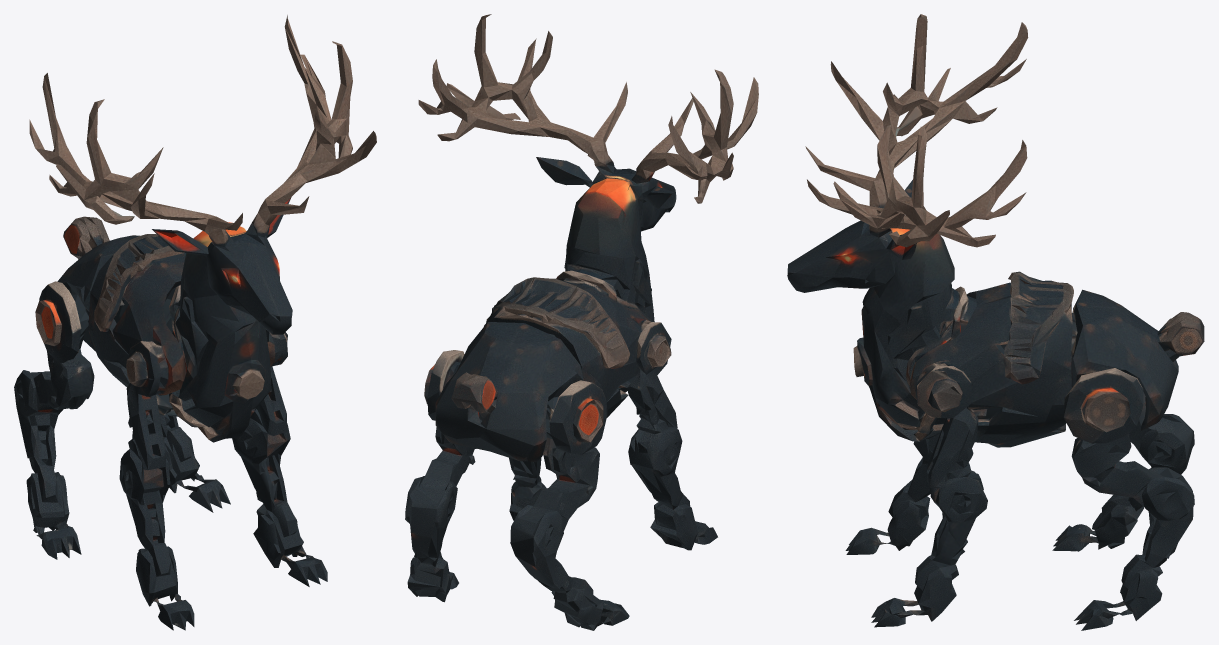
File: ironhorn.glb
3 views of the same model, side by side, from view 1: azimuth 30°, elevation 25°; view 2: azimuth 150°, elevation 25°; view 3: azimuth 270°, elevation 25° (orthographic). The views are drawn at different scales.
Size of the model in its own units: 1.13 by 1.9 by 1.39.
1 material, 1 textured.
